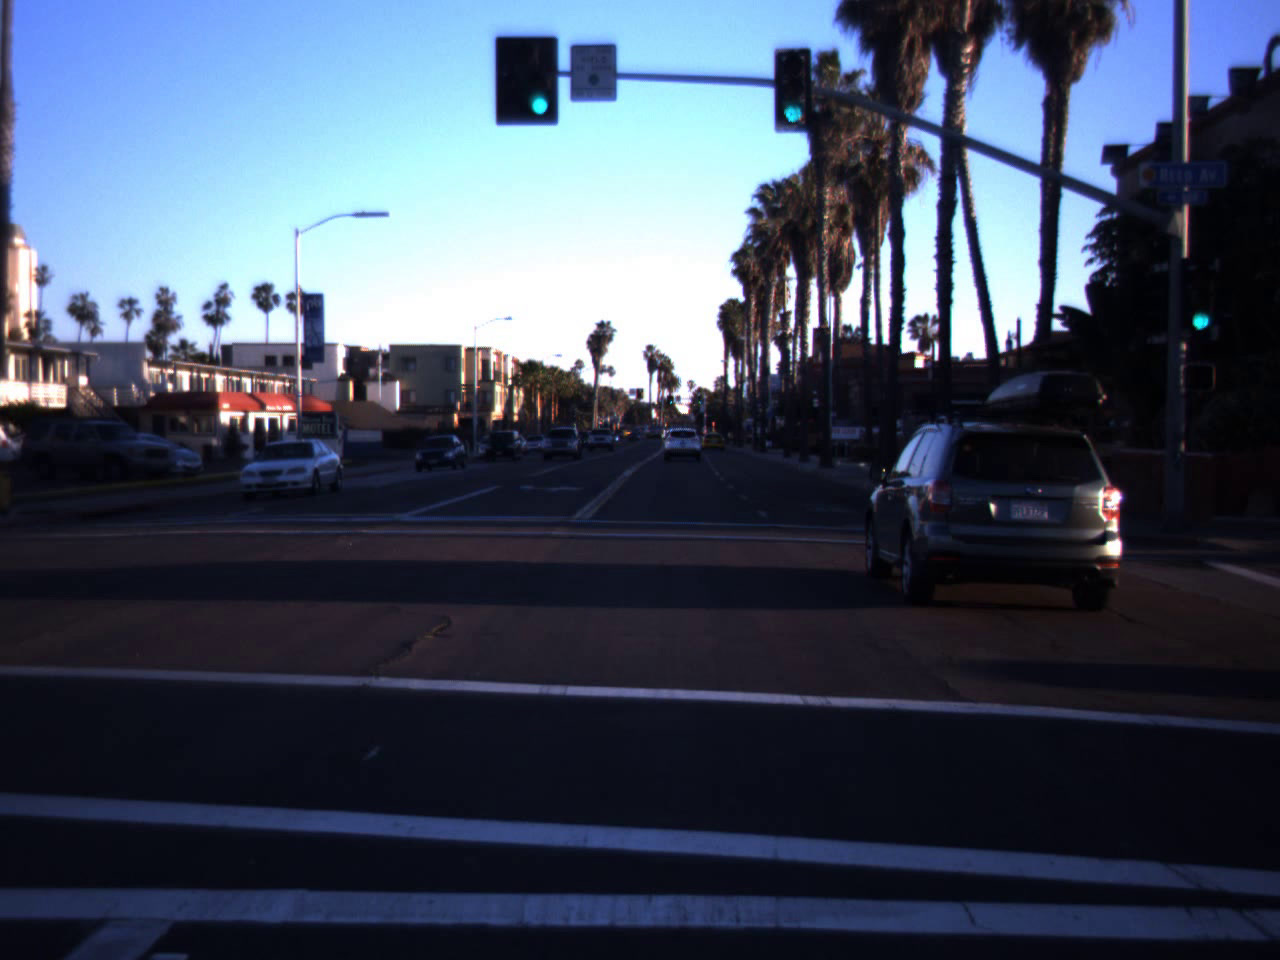go: (1175, 258, 1226, 338), (520, 50, 559, 120), (775, 67, 808, 127)
